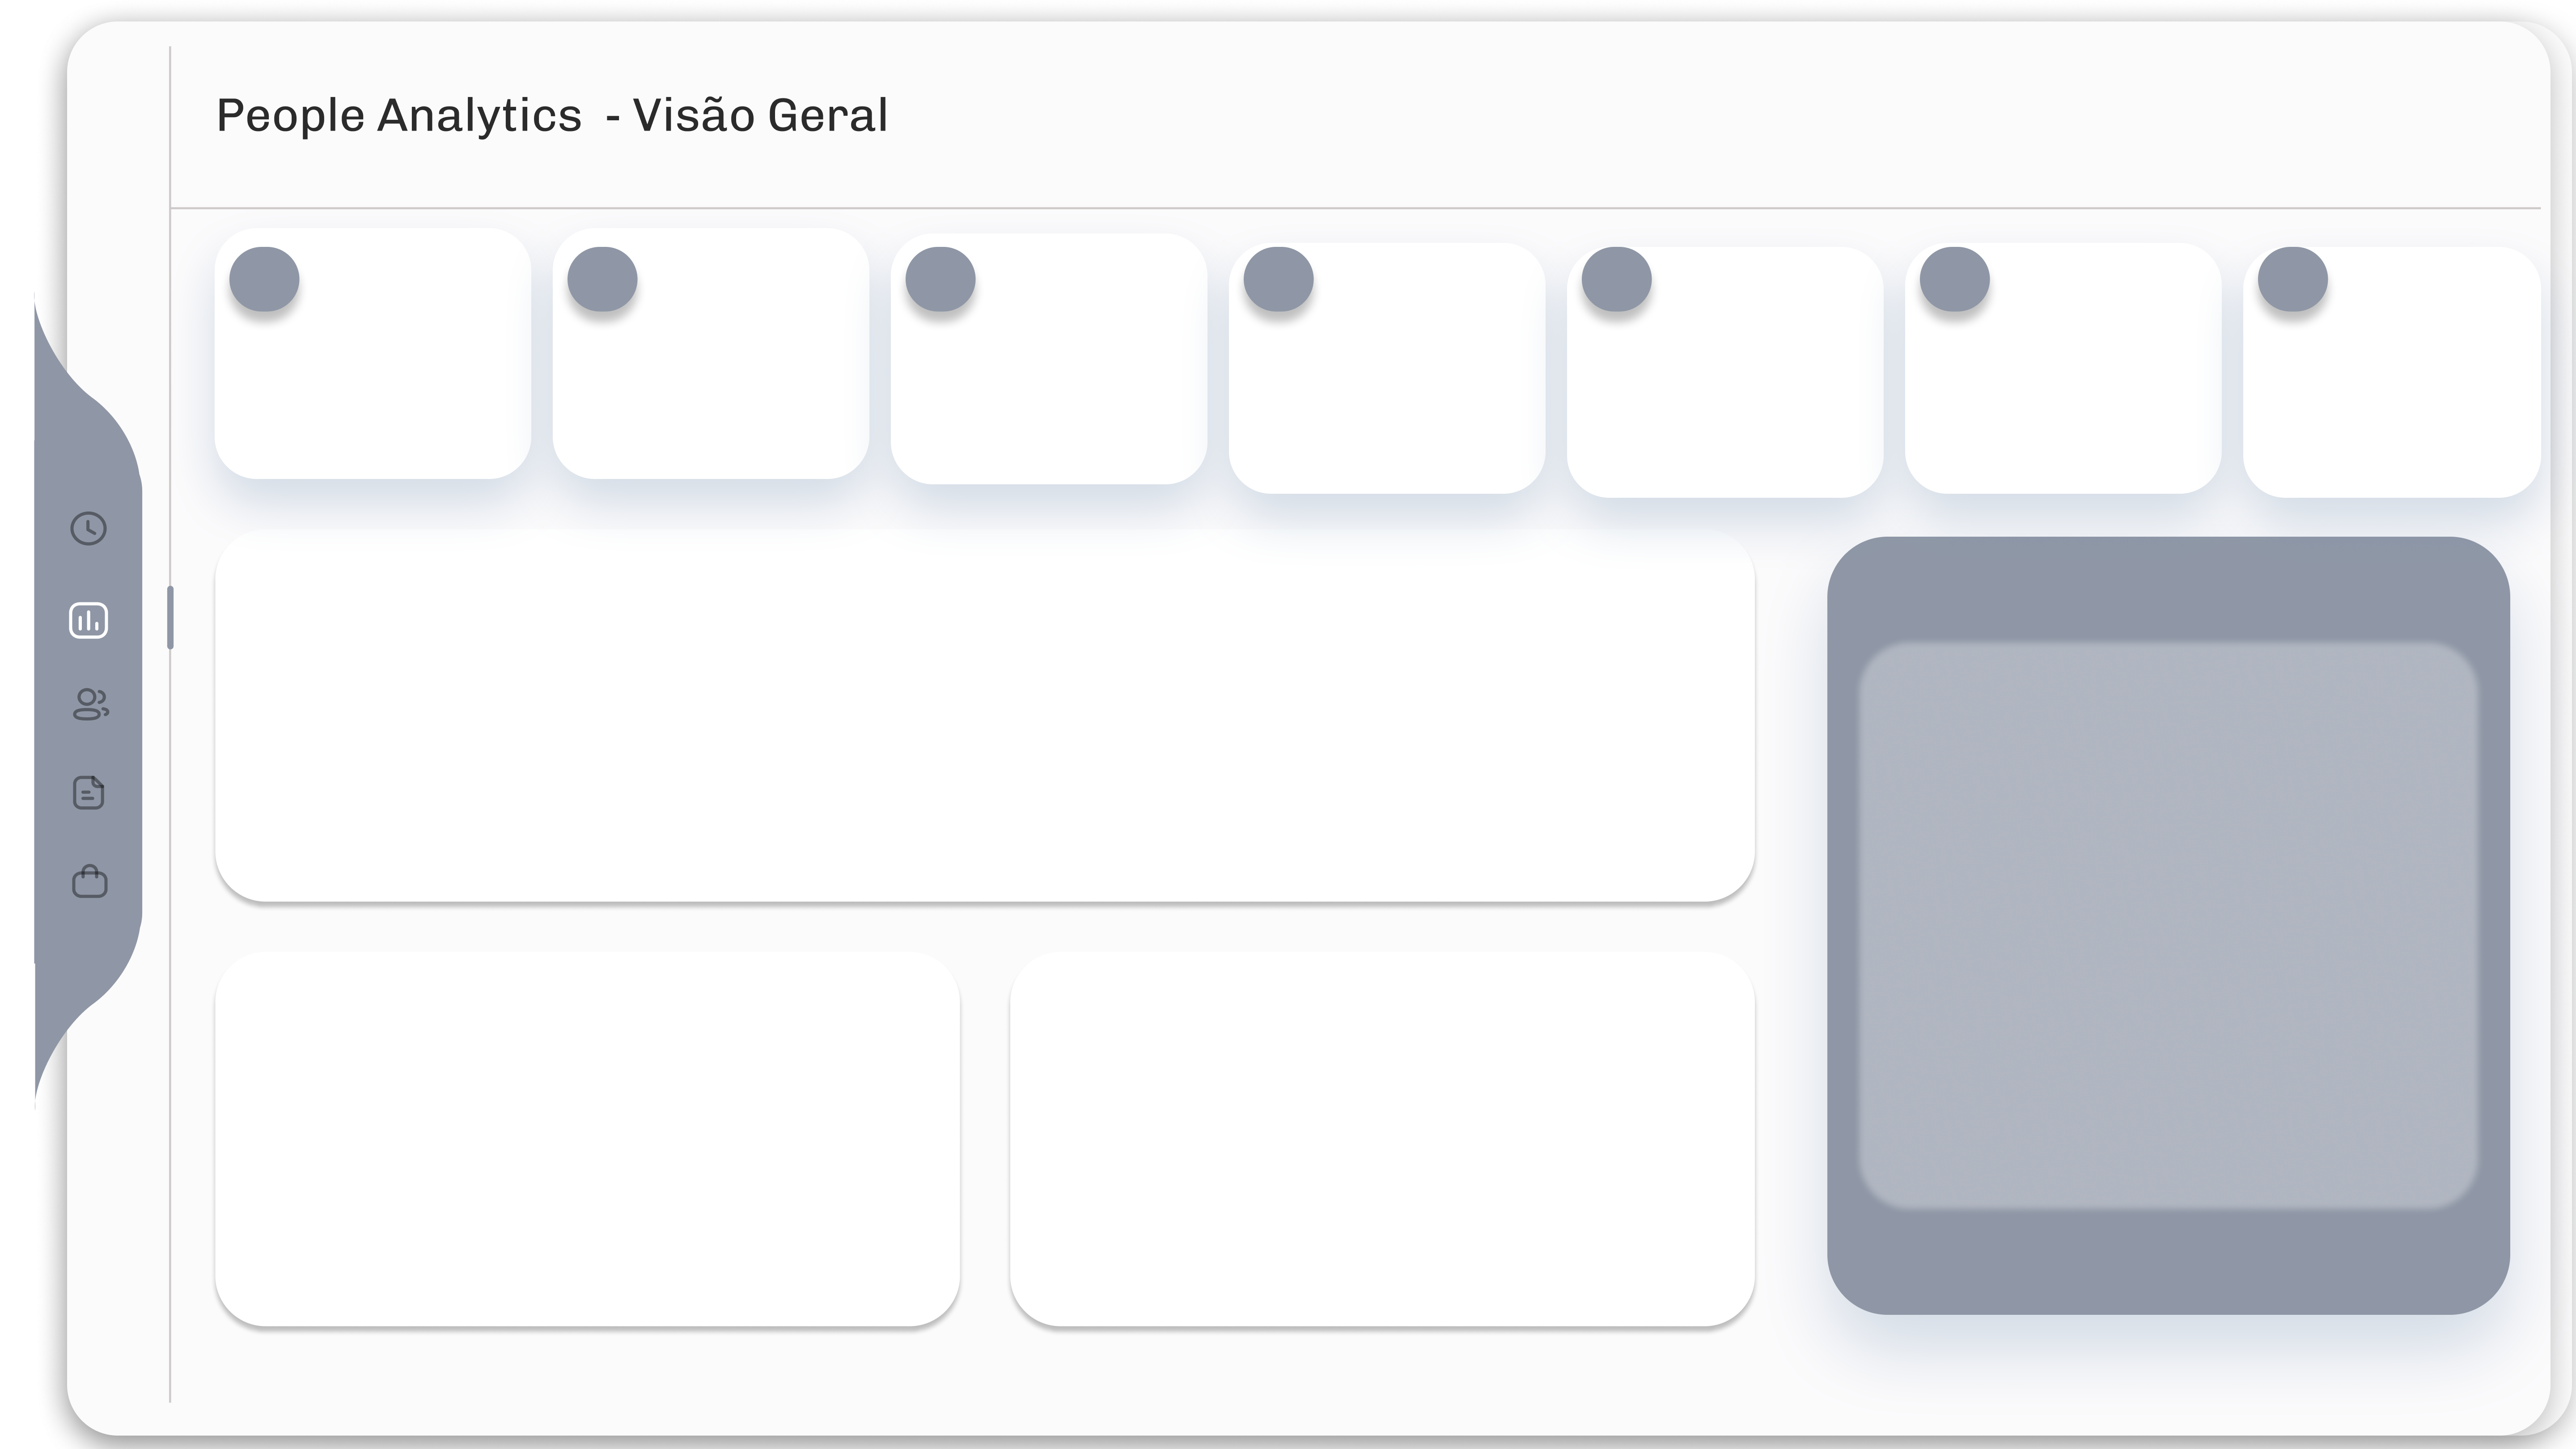

The dashboard page shown, as its layout file describes it:
{"tool":"powerbi","page":{"name":"Visão Geral","canvas":[1280,720],"ordinal":1},"visuals":[{"type":"card","title":"Inscritos","fields":{"Values":["Medidas.Total_Inscritos"]},"box":[131.4,126.3,124.6,104.1],"z":0},{"type":"card","title":"Aprovados no Programa","fields":{"Values":["Medidas.Total_Aprovados"]},"box":[478.1,126,123.8,104.6],"z":1000},{"type":"card","title":"Reprovados no Programa","fields":{"Values":["Medidas.Total_Reprovados_Programa"]},"box":[981,126,119.2,113.6],"z":2000},{"type":"card","title":"Fora do Perfil","fields":{"Values":["Medidas.Total_Fora_Perfil"]},"box":[1153.1,129.4,102.4,108],"z":3000},{"type":"donutChart","title":"Inscritos por Etapa","fields":{"Category":["Base Principal.Etapa"],"Y":["Medidas.Total_Inscritos"]},"box":[918.5,271.2,348.4,347],"z":4000},{"type":"card","title":"Qt. de Vagas","fields":{"Values":["Medidas.Posicoes_Totais"]},"box":[307.1,126,124.9,104.6],"z":5000},{"type":"card","title":"Vagas Canceladas","fields":{"Values":["Medidas.Posicoes_Canceladas"]},"box":[652.5,126,101.2,113.6],"z":6000},{"type":"card","title":"Pct. Vagas Preenchidas","fields":{"Values":["Medidas.Percentual_Preenchidas"]},"box":[812.4,126.3,129.7,119.5],"z":7000},{"type":"columnChart","title":"Origem das Inscrições","fields":{"Category":["Base Principal.Origem das Inscrições"],"Y":["Medidas.Total_Inscritos_Por_Origem"]},"box":[115.2,274.1,740.6,170.6],"z":8000},{"type":"clusteredColumnChart","title":"Modalidade do Curso dos Inscritos","fields":{"Category":["Base Principal.Modalidade do Curso"],"Y":["Medidas.Total_Inscritos_Presencial","Medidas.Total_Inscritos_Semipresencial","Medidas.Total_Inscritos_EAD"]},"box":[104,482,381,180],"z":9000},{"type":"funnel","title":"Inscritos por Faixa Etária","fields":{"Y":["Medidas.Total_Inscritos_21_25","Medidas.Total_Inscritos_Ate_20","Medidas.Total_Inscritos_26_30","Medidas.Total_Inscritos_Maior_30"]},"box":[511.3,460.5,344.5,204.3],"z":10000},{"type":"image","box":[36.2,647.5,50,50],"z":13000},{"type":"image","box":[115.5,118.2,31.8,35.5],"z":14000},{"type":"image","box":[277.3,110.9,46.4,50.9],"z":15000},{"type":"image","box":[619.1,118.2,40.9,36.4],"z":16000},{"type":"image","box":[444.5,118.2,40.9,46.4],"z":17000},{"type":"image","box":[787.3,120.9,33.6,33.6],"z":18000},{"type":"image","box":[949.1,114.5,47.3,47.3],"z":19000},{"type":"image","box":[1125.5,125.5,34.5,31.8],"z":20000},{"type":"shape","box":[23.8,246.2,46.2,37.5],"z":21000},{"type":"shape","box":[23.8,375,46.2,37.5],"z":22000},{"type":"shape","box":[23.8,422.5,46.2,37.5],"z":23000},{"type":"shape","box":[23.8,322.5,46.2,37.5],"z":24000}]}

Visuals, with their boxes on the page's 1280x720 design canvas (x1, y1, x2, y2). These are canvas units, not pixel positions in the 2576x1449 screenshot, which may show the page scaled, cropped or inside an application window:
"Inscritos" card: pyautogui.locateOnScreen(131, 126, 256, 230)
"Aprovados no Programa" card: pyautogui.locateOnScreen(478, 126, 602, 231)
"Reprovados no Programa" card: pyautogui.locateOnScreen(981, 126, 1100, 240)
"Fora do Perfil" card: pyautogui.locateOnScreen(1153, 129, 1256, 237)
"Inscritos por Etapa" donutChart: pyautogui.locateOnScreen(918, 271, 1267, 618)
"Qt. de Vagas" card: pyautogui.locateOnScreen(307, 126, 432, 231)
"Vagas Canceladas" card: pyautogui.locateOnScreen(652, 126, 754, 240)
"Pct. Vagas Preenchidas" card: pyautogui.locateOnScreen(812, 126, 942, 246)
"Origem das Inscrições" columnChart: pyautogui.locateOnScreen(115, 274, 856, 445)
"Modalidade do Curso dos Inscritos" clusteredColumnChart: pyautogui.locateOnScreen(104, 482, 485, 662)
"Inscritos por Faixa Etária" funnel: pyautogui.locateOnScreen(511, 460, 856, 665)
image: pyautogui.locateOnScreen(36, 648, 86, 698)
image: pyautogui.locateOnScreen(116, 118, 147, 154)
image: pyautogui.locateOnScreen(277, 111, 324, 162)
image: pyautogui.locateOnScreen(619, 118, 660, 155)
image: pyautogui.locateOnScreen(444, 118, 485, 165)
image: pyautogui.locateOnScreen(787, 121, 821, 154)
image: pyautogui.locateOnScreen(949, 114, 996, 162)
image: pyautogui.locateOnScreen(1126, 126, 1160, 157)
shape: pyautogui.locateOnScreen(24, 246, 70, 284)
shape: pyautogui.locateOnScreen(24, 375, 70, 412)
shape: pyautogui.locateOnScreen(24, 422, 70, 460)
shape: pyautogui.locateOnScreen(24, 322, 70, 360)
